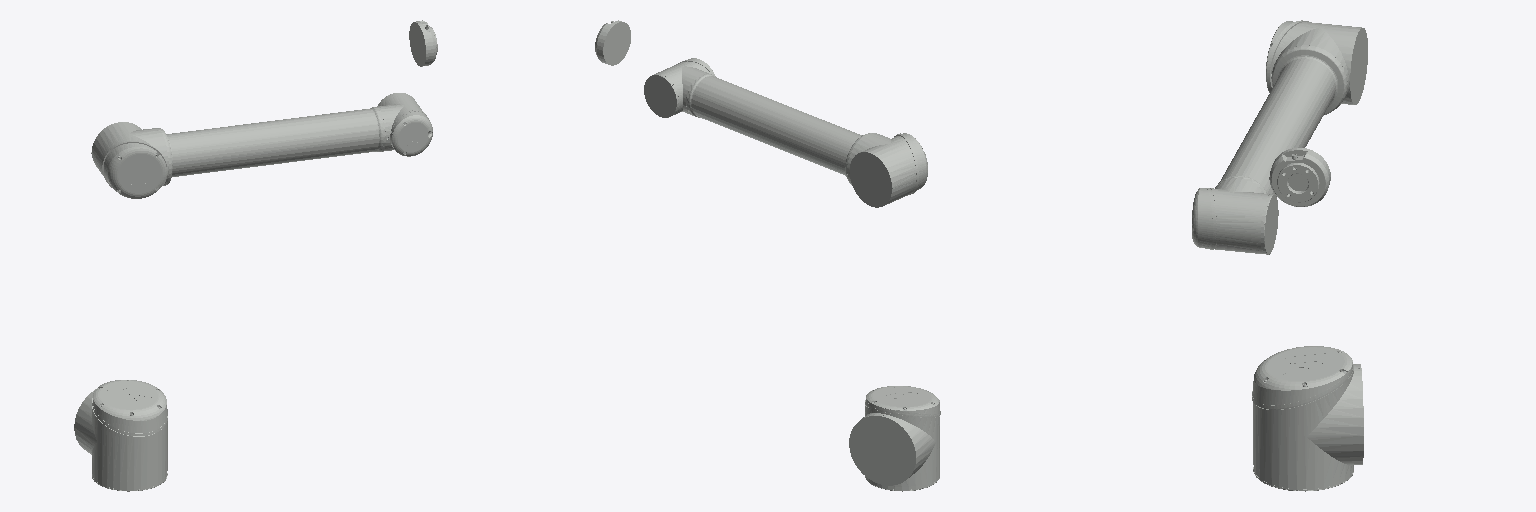
robot.urdf — real_robot_urdf:
<?xml version="1.0" encoding="utf-8"?>
<!-- This URDF was automatically created by SolidWorks to URDF Exporter! Originally created by [author] ([email redacted]) 
     Commit Version: 1.6.0-4-g7f85cfe  Build Version: 1.6.7995.38578
     For more information, please see http://wiki.ros.org/sw_urdf_exporter -->
<robot
  name="real_robot_urdf">
  <link
    name="base_link">
    <inertial>
      <origin
        xyz="0.00047472 6.9315E-06 0.018436"
        rpy="0 0 0" />
      <mass
        value="0.70951" />
      <inertia
        ixx="0.0011478"
        ixy="-4.6822E-08"
        ixz="-2.9441E-07"
        iyy="0.0011755"
        iyz="7.868E-08"
        izz="0.0021505" />
    </inertial>
    <visual>
      <origin
        xyz="0 0 0"
        rpy="0 0 0" />
      <geometry>
        <mesh
          filename="package://real_robot_urdf/meshes/base_link.STL" />
      </geometry>
      <material
        name="">
        <color
          rgba="0.75686 0.76863 0.75294 1" />
      </material>
    </visual>
    <collision>
      <origin
        xyz="0 0 0"
        rpy="0 0 0" />
      <geometry>
        <mesh
          filename="package://real_robot_urdf/meshes/base_link.STL" />
      </geometry>
    </collision>
  </link>
  <link
    name="forearm_link">
    <inertial>
      <origin
        xyz="0.0023542 0.0085726 0.12447"
        rpy="0 0 0" />
      <mass
        value="3.4311" />
      <inertia
        ixx="0.011117"
        ixy="-0.0001688"
        ixz="-0.0002995"
        iyy="0.010549"
        iyz="-0.0010909"
        izz="0.010872" />
    </inertial>
    <visual>
      <origin
        xyz="0 0 0"
        rpy="0 0 0" />
      <geometry>
        <mesh
          filename="package://real_robot_urdf/meshes/forearm_link.STL" />
      </geometry>
      <material
        name="">
        <color
          rgba="0.75686 0.76863 0.75294 1" />
      </material>
    </visual>
    <collision>
      <origin
        xyz="0 0 0"
        rpy="0 0 0" />
      <geometry>
        <mesh
          filename="package://real_robot_urdf/meshes/forearm_link.STL" />
      </geometry>
    </collision>
  </link>
  <joint
    name="elbow_joint"
    type="revolute">
    <origin
      xyz="0 0 0"
      rpy="0 0 0" />
    <parent
      link="base_link" />
    <child
      link="forearm_link" />
    <axis
      xyz="0 0 1" />
    <limit
      lower="0"
      upper="3.142"
      effort="300"
      velocity="3" />
  </joint>
  <link
    name="upper_arm_link">
    <inertial>
      <origin
        xyz="2.6374E-05 0.28803 0.064081"
        rpy="0 0 0" />
      <mass
        value="5.766" />
      <inertia
        ixx="0.053593"
        ixy="-1.3385E-05"
        ixz="4.9362E-06"
        iyy="0.0077952"
        iyz="2.3286E-07"
        izz="0.053877" />
    </inertial>
    <visual>
      <origin
        xyz="0 0 0"
        rpy="0 0 0" />
      <geometry>
        <mesh
          filename="package://real_robot_urdf/meshes/upper_arm_link.STL" />
      </geometry>
      <material
        name="">
        <color
          rgba="0.75686 0.76863 0.75294 1" />
      </material>
    </visual>
    <collision>
      <origin
        xyz="0 0 0"
        rpy="0 0 0" />
      <geometry>
        <mesh
          filename="package://real_robot_urdf/meshes/upper_arm_link.STL" />
      </geometry>
    </collision>
  </link>
  <joint
    name="shoulder_lift_joint"
    type="revolute">
    <origin
      xyz="0.057348 0.2089 0.13048"
      rpy="1.5708 0 -0.26793" />
    <parent
      link="forearm_link" />
    <child
      link="upper_arm_link" />
    <axis
      xyz="0 0 -1" />
    <limit
      lower="-1.57"
      upper="1.57"
      effort="200"
      velocity="3" />
  </joint>
  <link
    name="shoulder_link">
    <inertial>
      <origin
        xyz="0.24626 0.00038792 -0.064902"
        rpy="0 0 0" />
      <mass
        value="4.9784" />
      <inertia
        ixx="0.0058504"
        ixy="6.6369E-09"
        ixz="-0.00020001"
        iyy="0.051562"
        iyz="-1.5261E-08"
        izz="0.051782" />
    </inertial>
    <visual>
      <origin
        xyz="0 0 0"
        rpy="0 0 0" />
      <geometry>
        <mesh
          filename="package://real_robot_urdf/meshes/shoulder_link.STL" />
      </geometry>
      <material
        name="">
        <color
          rgba="0.75686 0.76863 0.75294 1" />
      </material>
    </visual>
    <collision>
      <origin
        xyz="0 0 0"
        rpy="0 0 0" />
      <geometry>
        <mesh
          filename="package://real_robot_urdf/meshes/shoulder_link.STL" />
      </geometry>
    </collision>
  </link>
  <joint
    name="shoulder_pan_joint"
    type="revolute">
    <origin
      xyz="0.013053 0.58103 0.25475"
      rpy="0 0.034793 0" />
    <parent
      link="upper_arm_link" />
    <child
      link="shoulder_link" />
    <axis
      xyz="0 0 -1" />
    <limit
      lower="-1.57"
      upper="1.57"
      effort="200"
      velocity="3" />
  </joint>
  <link
    name="wrist_1_link">
    <inertial>
      <origin
        xyz="0.038757 0.0032123 -0.16106"
        rpy="0 0 0" />
      <mass
        value="0.83842" />
      <inertia
        ixx="0.0010339"
        ixy="-3.0338E-05"
        ixz="1.6348E-05"
        iyy="0.0009644"
        iyz="0.00012774"
        izz="0.00096895" />
    </inertial>
    <visual>
      <origin
        xyz="0 0 0"
        rpy="0 0 0" />
      <geometry>
        <mesh
          filename="package://real_robot_urdf/meshes/wrist_1_link.STL" />
      </geometry>
      <material
        name="">
        <color
          rgba="0.75686 0.76863 0.75294 1" />
      </material>
    </visual>
    <collision>
      <origin
        xyz="0 0 0"
        rpy="0 0 0" />
      <geometry>
        <mesh
          filename="package://real_robot_urdf/meshes/wrist_1_link.STL" />
      </geometry>
    </collision>
  </link>
  <joint
    name="wrist_1_joint"
    type="revolute">
    <origin
      xyz="0.56474 0.000388 -0.0090716"
      rpy="0 0.23313 0" />
    <parent
      link="shoulder_link" />
    <child
      link="wrist_1_link" />
    <axis
      xyz="-0.23103 0 0.97295" />
    <limit
      lower="-1.57"
      upper="1.57"
      effort="200"
      velocity="3" />
  </joint>
  <link
    name="wrist_2_link">
    <inertial>
      <origin
        xyz="0.0034039 0.00048525 0.16585"
        rpy="0 0 0" />
      <mass
        value="0.83842" />
      <inertia
        ixx="0.00096592"
        ixy="1.045E-05"
        ixz="-0.00012992"
        iyy="0.0010363"
        iyz="1.8899E-05"
        izz="0.00096507" />
    </inertial>
    <visual>
      <origin
        xyz="0 0 0"
        rpy="0 0 0" />
      <geometry>
        <mesh
          filename="package://real_robot_urdf/meshes/wrist_2_link.STL" />
      </geometry>
      <material
        name="">
        <color
          rgba="0.75686 0.76863 0.75294 1" />
      </material>
    </visual>
    <collision>
      <origin
        xyz="0 0 0"
        rpy="0 0 0" />
      <geometry>
        <mesh
          filename="package://real_robot_urdf/meshes/wrist_2_link.STL" />
      </geometry>
    </collision>
  </link>
  <joint
    name="wrist_2_joint"
    type="revolute">
    <origin
      xyz="0.039855 -0.05588 -0.16569"
      rpy="-1.5708 0 0" />
    <parent
      link="wrist_1_link" />
    <child
      link="wrist_2_link" />
    <axis
      xyz="0 0 -1" />
    <limit
      lower="-1.57"
      upper="1.57"
      effort="100"
      velocity="2" />
  </joint>
  <link
    name="wrist_3_link">
    <inertial>
      <origin
        xyz="0.00017986 -4.4952E-05 -0.13062"
        rpy="0 0 0" />
      <mass
        value="0.15932" />
      <inertia
        ixx="8.2239E-05"
        ixy="1.0723E-06"
        ixz="8.7279E-08"
        iyy="8.7571E-05"
        iyz="4.5096E-07"
        izz="0.00014976" />
    </inertial>
    <visual>
      <origin
        xyz="0 0 0"
        rpy="0 0 0" />
      <geometry>
        <mesh
          filename="package://real_robot_urdf/meshes/wrist_3_link.STL" />
      </geometry>
      <material
        name="">
        <color
          rgba="0.75686 0.76863 0.75294 1" />
      </material>
    </visual>
    <collision>
      <origin
        xyz="0 0 0"
        rpy="0 0 0" />
      <geometry>
        <mesh
          filename="package://real_robot_urdf/meshes/wrist_3_link.STL" />
      </geometry>
    </collision>
  </link>
  <joint
    name="wrist_3_joint"
    type="revolute">
    <origin
      xyz="-0.055073 0.0089909 0.17061"
      rpy="-1.5708 0 1.4264" />
    <parent
      link="wrist_2_link" />
    <child
      link="wrist_3_link" />
    <axis
      xyz="0 0 1" />
    <limit
      lower="0"
      upper="3.142"
      effort="50"
      velocity="2" />
  </joint>
</robot>

--- Render facts (derived) ---
The picture shows the robot from 3 angles, left to right: view 1: azimuth 30°, elevation 25°; view 2: azimuth 150°, elevation 25°; view 3: azimuth 270°, elevation 25°; orthographic projection.
Robot: real_robot_urdf — 7 links, 6 joints (6 revolute); root link base_link; default pose: all joints at 0.
Visible links, largest first — view 1: shoulder_link, forearm_link, wrist_3_link; view 2: shoulder_link, forearm_link, wrist_3_link; view 3: shoulder_link, forearm_link, wrist_3_link.
Link boxes in pixels (x1,y1,x2,y2): shoulder_link: (91, 93, 432, 198); forearm_link: (74, 380, 167, 491); wrist_3_link: (409, 20, 437, 66); shoulder_link: (644, 58, 927, 207); forearm_link: (849, 386, 940, 491); wrist_3_link: (595, 20, 630, 65); shoulder_link: (1192, 20, 1367, 254); forearm_link: (1252, 346, 1363, 491); wrist_3_link: (1269, 148, 1330, 206).
Size in the robot's own frame: 0.7687 by 0.2625 by 0.8345 metres.
3 mesh visuals loaded from 7 distinct referenced files (3 binary STL); not drawn: 4 (reference not matched to a file when rendering).